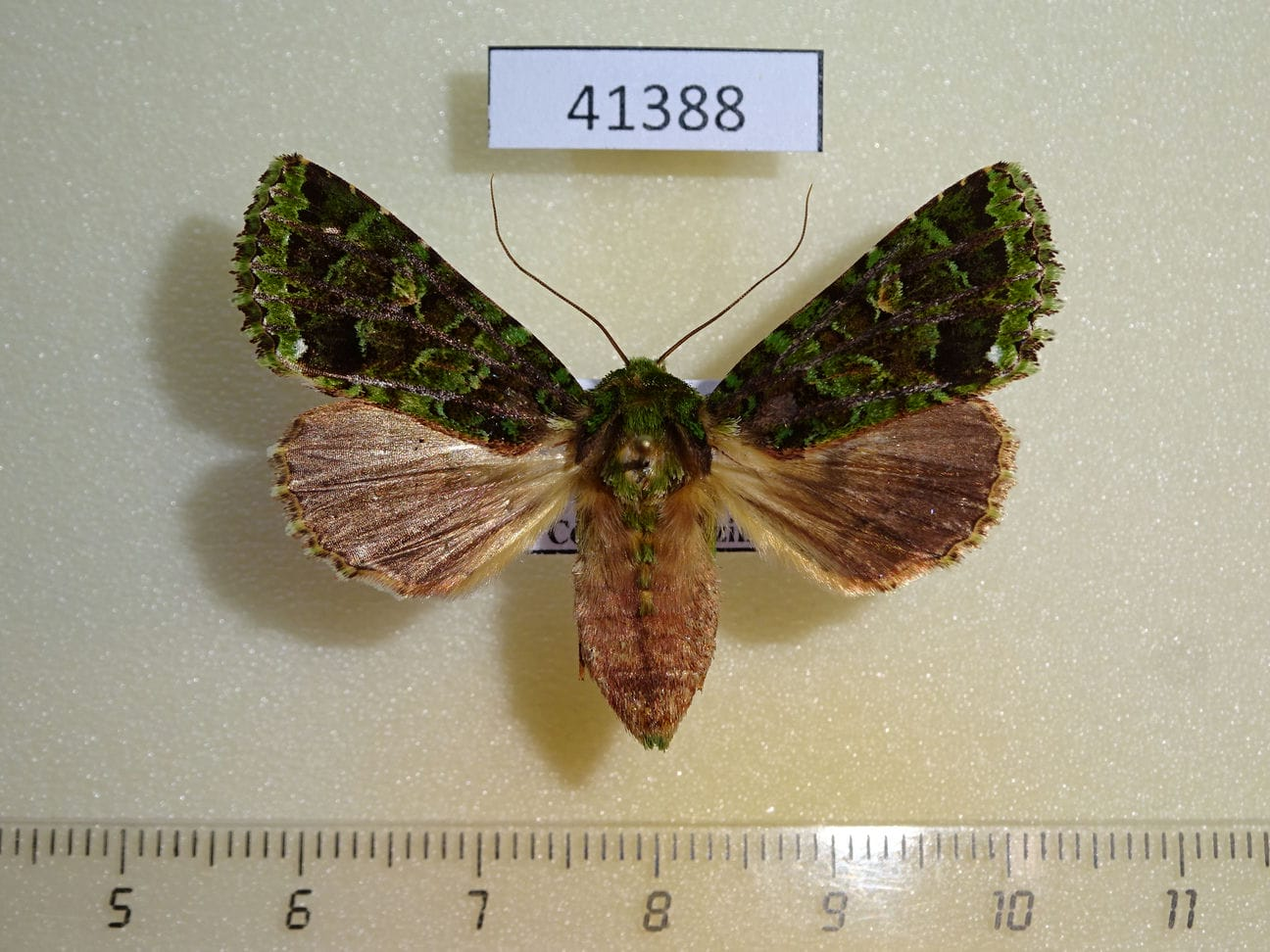Noctuidae: (228, 146, 1067, 748)
